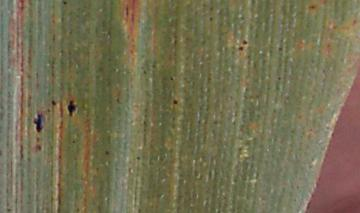tarspot: (32, 111, 45, 134), (66, 99, 78, 117), (56, 99, 65, 118), (18, 143, 25, 160), (25, 93, 32, 108), (32, 143, 42, 153), (55, 192, 62, 206), (56, 166, 63, 180), (57, 119, 65, 131), (106, 29, 112, 41), (51, 32, 57, 43), (34, 70, 40, 81), (171, 98, 179, 106), (240, 38, 248, 46), (114, 96, 122, 104), (49, 70, 57, 78), (200, 38, 208, 46), (59, 14, 66, 23), (58, 48, 65, 57), (104, 196, 111, 205), (26, 55, 32, 65), (252, 60, 258, 70), (276, 45, 284, 52), (350, 18, 357, 26), (205, 75, 212, 83), (111, 66, 118, 74), (126, 166, 134, 173), (183, 35, 191, 42), (324, 124, 331, 132), (307, 162, 314, 170), (248, 93, 255, 101), (67, 26, 73, 35), (289, 127, 295, 136), (96, 204, 102, 213), (274, 82, 280, 91), (49, 99, 56, 106), (34, 136, 41, 143), (103, 149, 110, 156), (275, 75, 282, 82), (211, 119, 218, 126), (150, 62, 157, 69), (25, 73, 32, 80), (73, 206, 80, 213), (238, 14, 245, 21), (331, 24, 338, 31), (127, 48, 134, 55), (232, 110, 239, 117), (232, 177, 239, 184), (253, 93, 260, 100), (60, 1, 68, 7), (325, 42, 331, 50), (13, 197, 19, 205), (261, 57, 267, 65), (237, 146, 242, 155), (70, 138, 76, 145), (56, 154, 63, 160), (134, 154, 140, 161), (4, 207, 11, 213), (237, 45, 244, 51), (208, 15, 214, 22), (136, 207, 143, 213), (49, 58, 55, 65), (196, 118, 202, 125), (25, 156, 31, 163), (243, 86, 249, 93), (231, 119, 237, 126), (193, 9, 199, 16), (242, 93, 248, 100), (308, 4, 316, 9), (95, 166, 100, 174), (173, 32, 178, 40), (246, 59, 251, 67), (1, 146, 4, 159), (168, 75, 174, 81), (208, 5, 214, 11), (170, 115, 176, 121), (141, 69, 147, 75), (49, 64, 55, 70), (141, 126, 147, 132), (130, 43, 136, 49), (106, 56, 112, 62), (55, 181, 60, 188), (321, 67, 326, 74), (26, 149, 31, 156), (5, 200, 10, 207), (35, 81, 40, 88), (272, 107, 277, 114), (310, 156, 315, 163), (215, 208, 222, 213), (50, 19, 56, 24), (50, 13, 56, 18), (142, 119, 147, 125), (142, 113, 147, 119), (126, 34, 131, 40), (19, 67, 24, 73), (295, 184, 300, 190), (142, 108, 148, 112), (173, 39, 177, 45), (246, 53, 250, 59)
